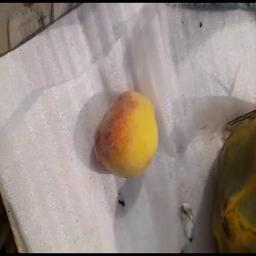Peach Semifresh: (89, 84, 160, 181)
